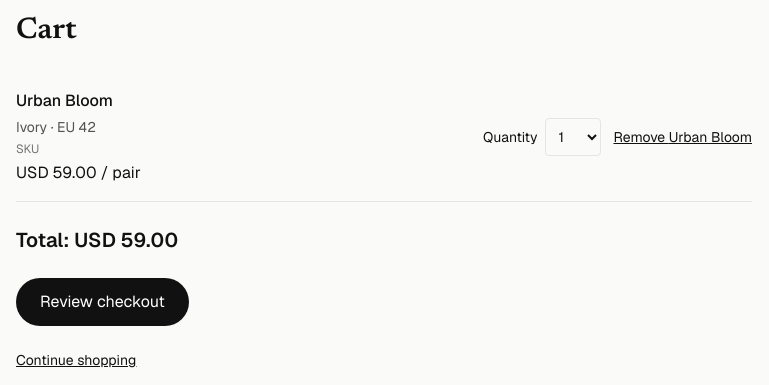
changes cart quantity using the backend total and removes an item
The image size is (769, 385).
Select "2" in the dropdown named "Urban Bloom quantity" at (574, 137), box [546, 118, 602, 156]
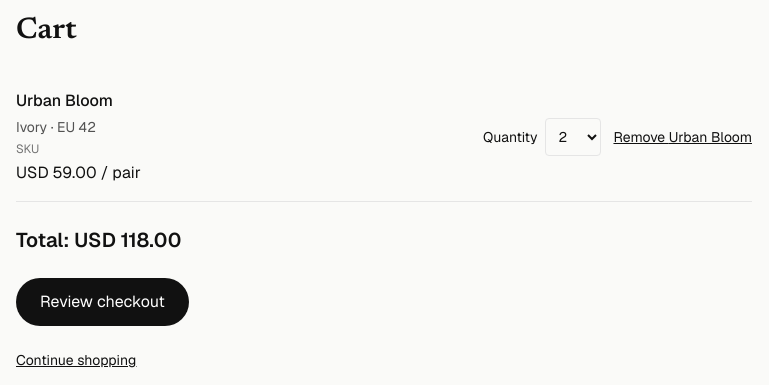
expect the text "Total: USD 118.00" is shown: met, box [16, 227, 181, 253]
Click the button "Remove Urban Bloom" at (683, 137), box [614, 127, 752, 147]
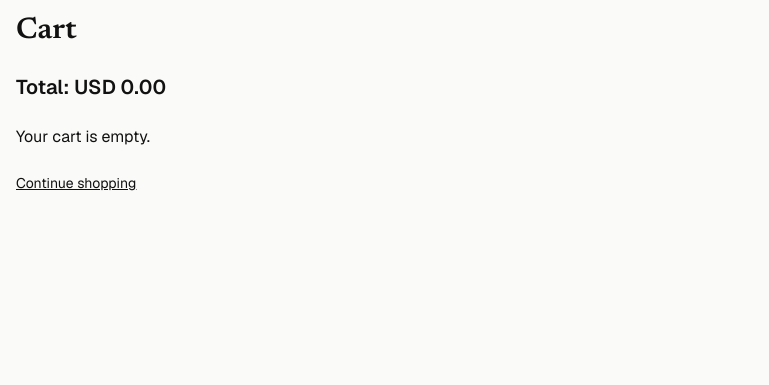
expect the text "Your cart is empty." is shown: met, box [16, 126, 150, 147]
